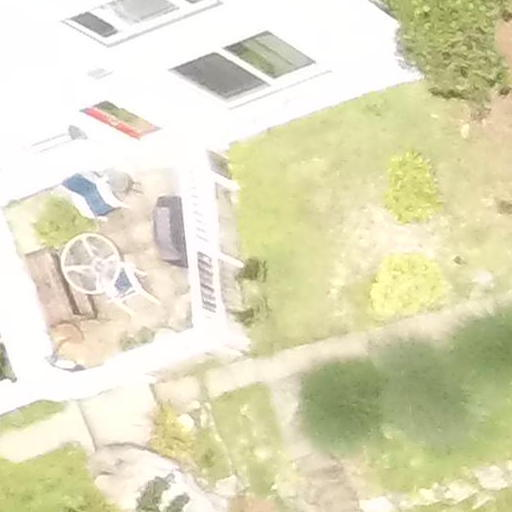barbecue: (145, 194, 194, 281)
chair: (43, 167, 123, 222)
flower pot: (113, 331, 136, 354), (132, 326, 157, 346)
porch: (1, 142, 274, 407)
table: (52, 225, 128, 302), (104, 164, 139, 198)
